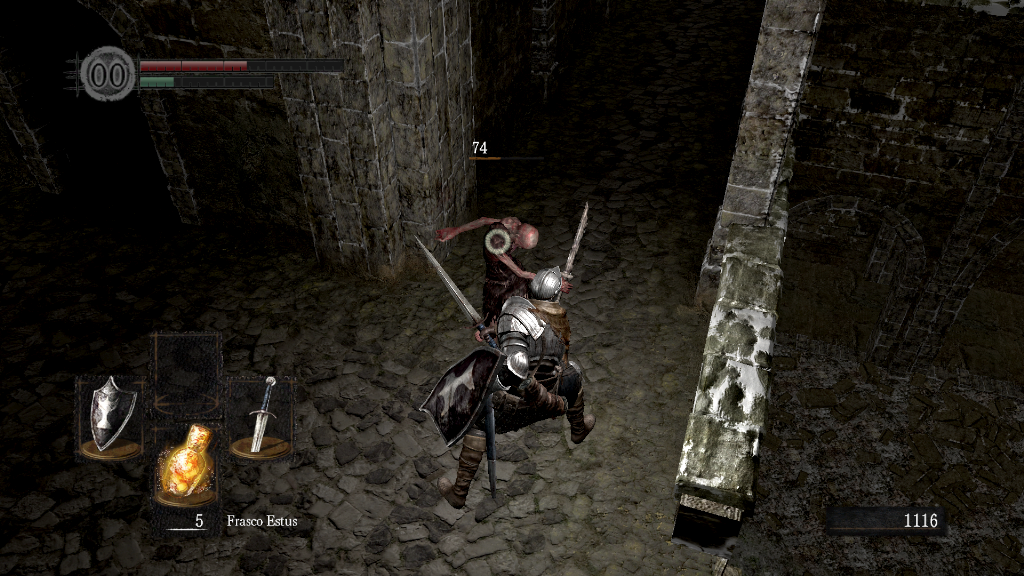health: (138, 58, 343, 71)
hollow: (433, 216, 575, 350)
humanity: (80, 45, 136, 102)
player: (410, 234, 599, 510)
souls: (825, 506, 945, 536)
stamina: (138, 74, 274, 88)
